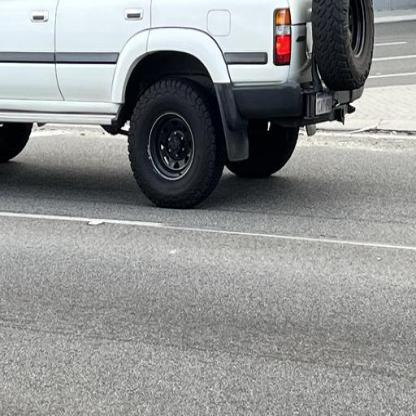Tire: (127, 78, 225, 210)
